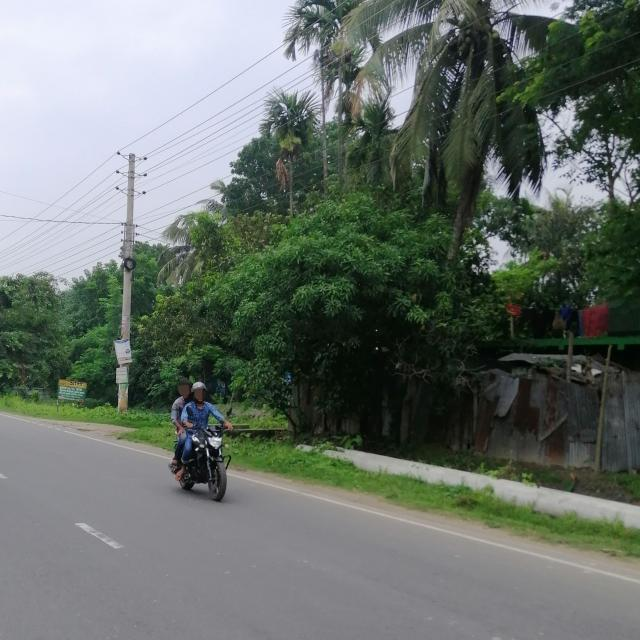Motorbike: (169, 424, 237, 508)
